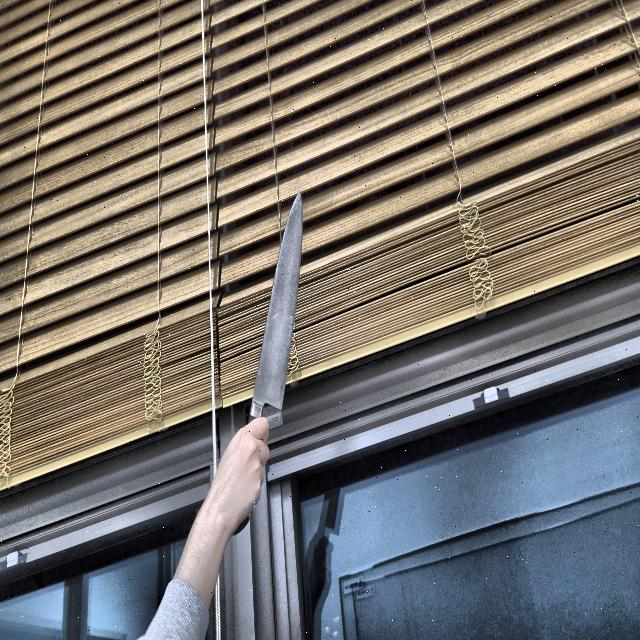knife: (233, 190, 305, 533)
